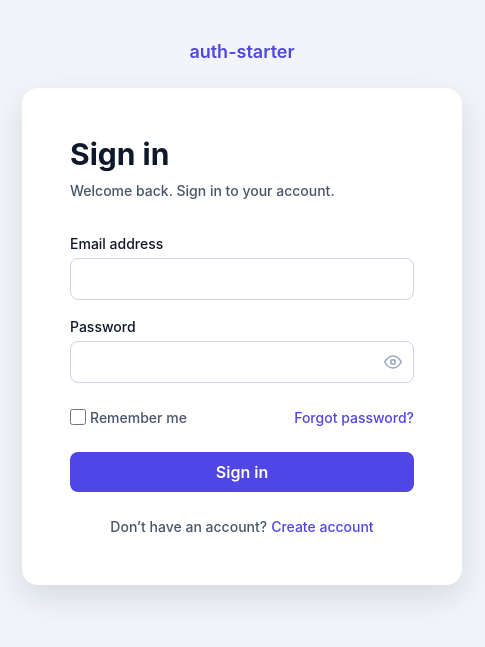
Test: LoginPage › Submitting state › re-enables inputs after login rejects
Type "test@example.com" into the field labelled "Email address" at [242, 278], box [70,258,414,300]
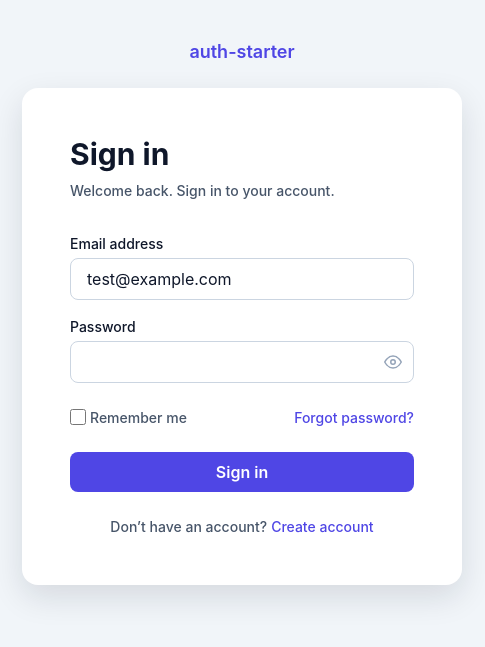
Type "password123" into the password field labelled "Password" at [242, 362], box [70,340,414,382]
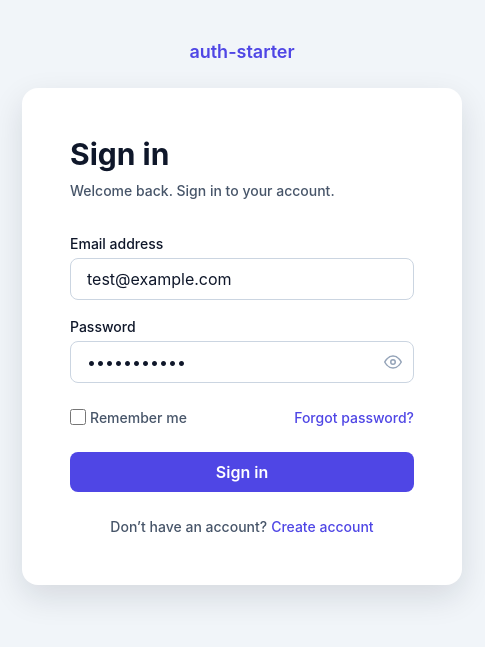
Submit the form
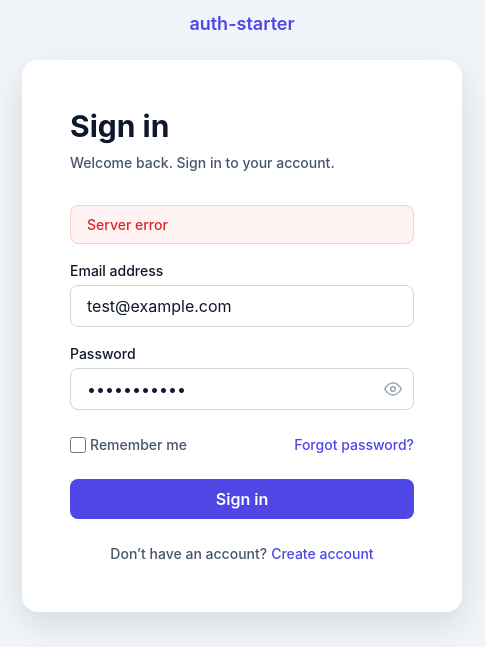
Expected: the field labelled "Email address" is enabled, [70,285,414,327]
Result: the message "Server error" is shown at [70,205,414,244]
